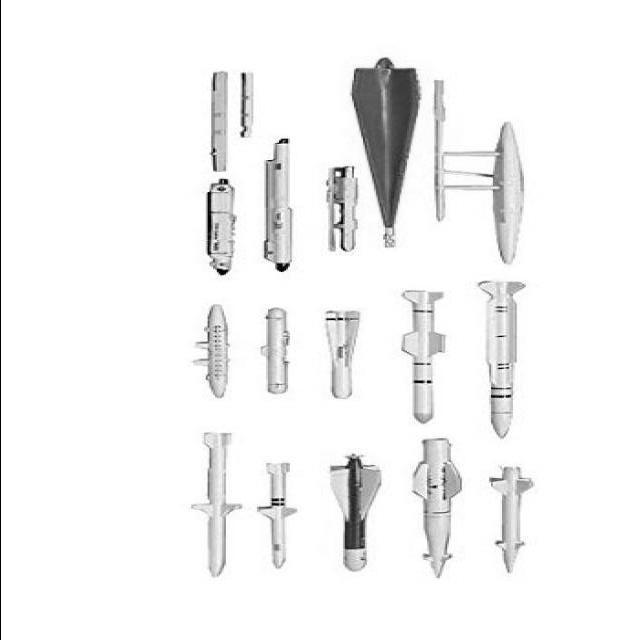Missile: (192, 429, 254, 582), (391, 283, 455, 423), (252, 452, 311, 572), (485, 460, 541, 580), (261, 304, 292, 396)
